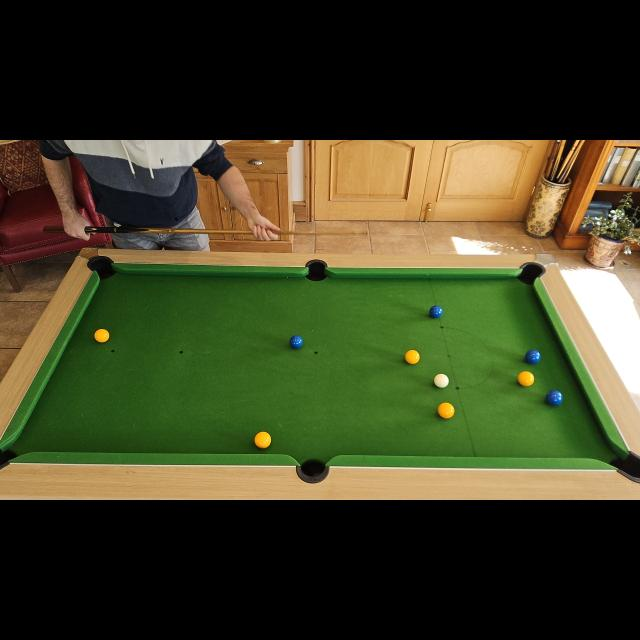Ball: (438, 402, 456, 420), (253, 432, 271, 448), (546, 390, 562, 406), (518, 372, 534, 386), (434, 374, 450, 388), (526, 350, 540, 364), (406, 350, 420, 364), (94, 330, 110, 342), (430, 305, 442, 319), (289, 336, 303, 348)
